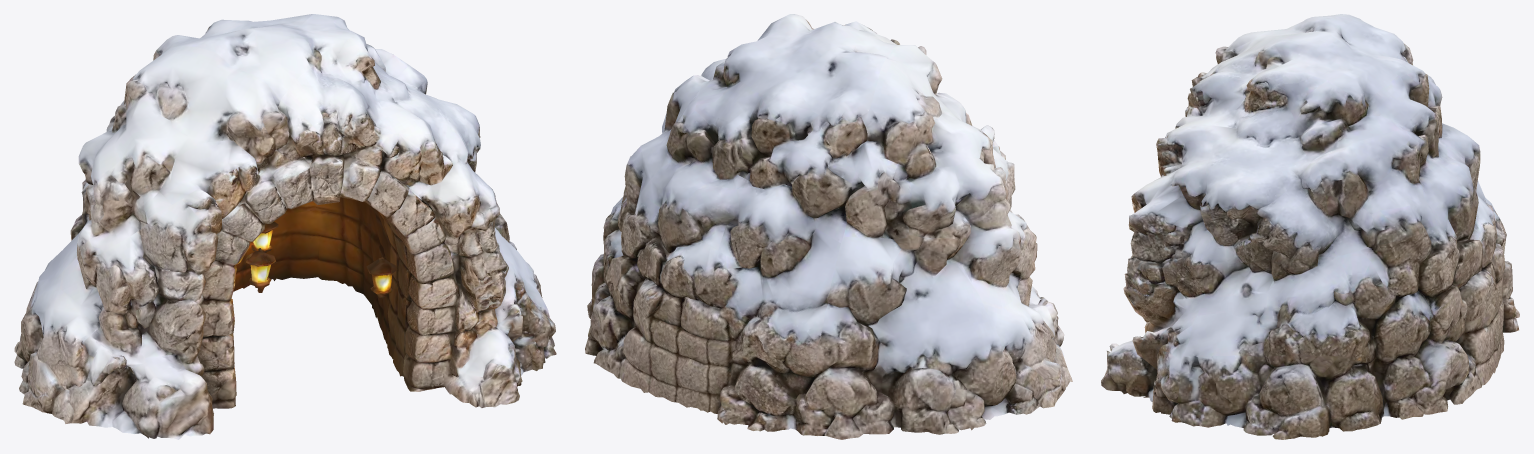
Rendered from dio_tunnel.glb.
The picture shows the model from 3 angles, left to right: view 1: azimuth 30°, elevation 25°; view 2: azimuth 150°, elevation 25°; view 3: azimuth 270°, elevation 25°; orthographic projection. The views are drawn at different scales.
Parts seen in each view (by area): view 1: tripo_node_b6dfe010-366f-44b6-9e30-08bcbd7ac068; view 2: tripo_node_b6dfe010-366f-44b6-9e30-08bcbd7ac068; view 3: tripo_node_b6dfe010-366f-44b6-9e30-08bcbd7ac068.
Part boxes in pixels (box(x1,y1,x2,y2)): tripo_node_b6dfe010-366f-44b6-9e30-08bcbd7ac068: box(14, 14, 556, 439); tripo_node_b6dfe010-366f-44b6-9e30-08bcbd7ac068: box(585, 14, 1072, 439); tripo_node_b6dfe010-366f-44b6-9e30-08bcbd7ac068: box(1101, 14, 1519, 439).
Bounding box in the file's own units: 0.9213 × 0.5797 × 0.7452.
1 material, 1 textured.
